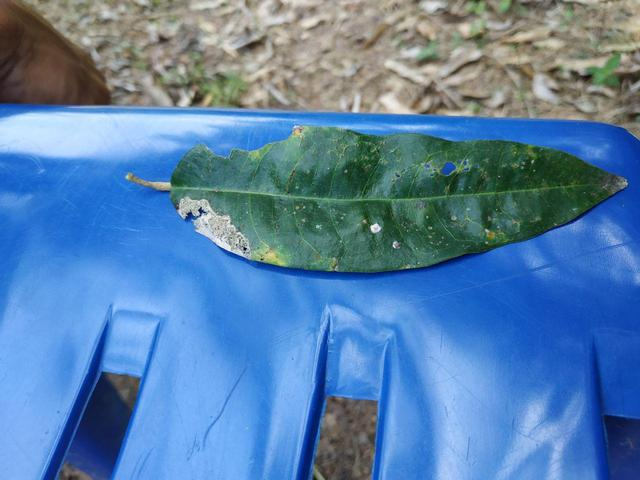blight spot: (388, 158, 511, 185)
